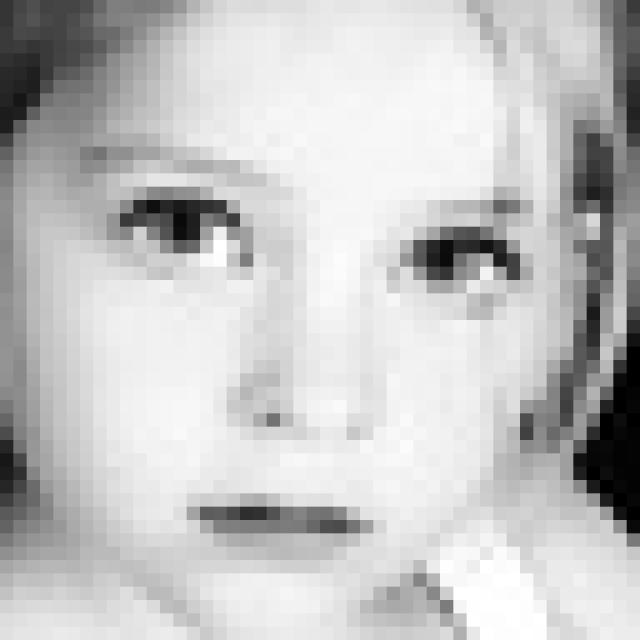neutral: (67, 128, 542, 578)
